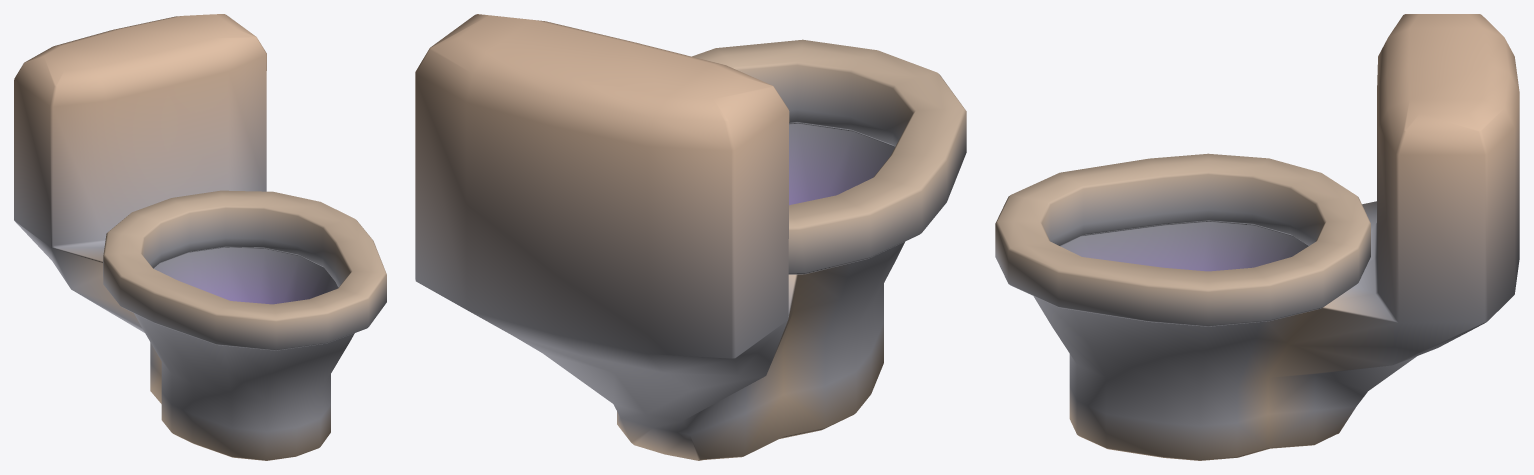
Rendered from Toilet.fbx.
3 views of the same model, side by side, from view 1: azimuth 30°, elevation 25°; view 2: azimuth 150°, elevation 25°; view 3: azimuth 270°, elevation 25° (orthographic). The views are drawn at different scales.
Parts seen in each view (by area): view 1: Toilet; view 2: Toilet; view 3: Toilet.
Part boxes in pixels (x1,y1,x2,y2): Toilet: [14, 14, 386, 460]; Toilet: [415, 14, 966, 460]; Toilet: [995, 14, 1519, 460].
Size of the model in its own units: 133 by 162 by 215.
